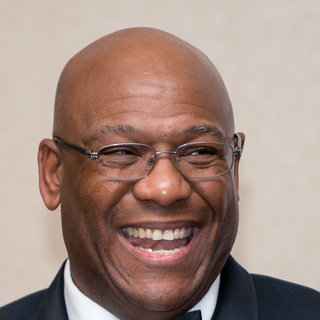eye: (95, 141, 142, 163), (176, 142, 222, 164)
